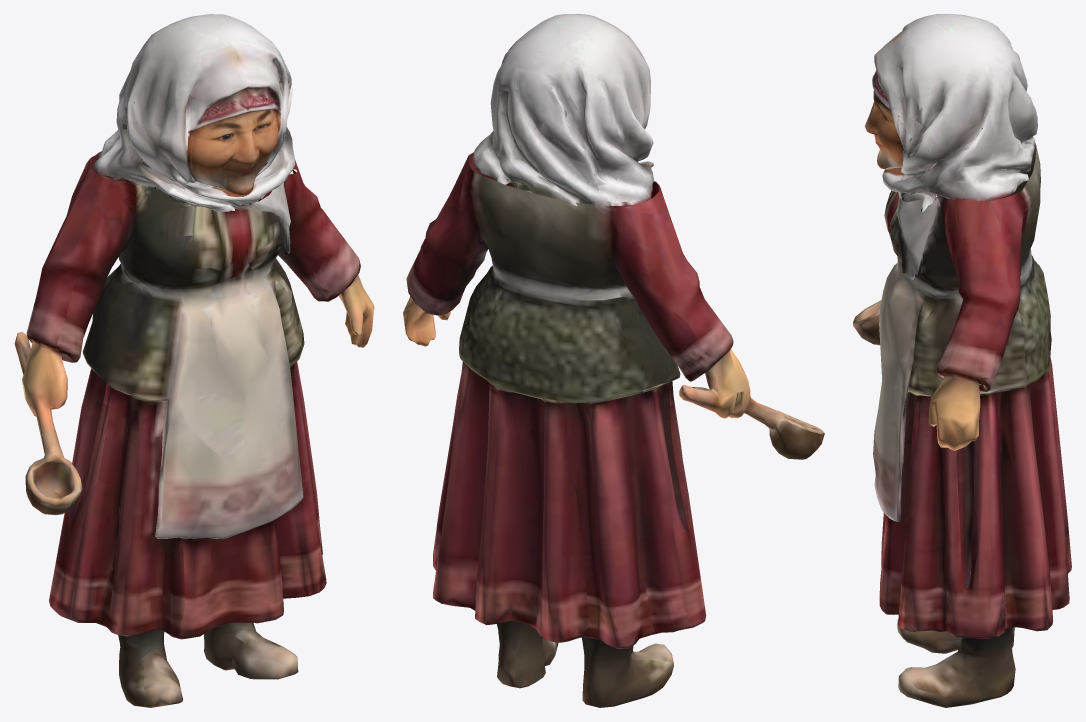
The model's file is cook.gen.phone.glb.
The picture shows the model from 3 angles, left to right: view 1: azimuth 30°, elevation 25°; view 2: azimuth 150°, elevation 25°; view 3: azimuth 270°, elevation 25°; orthographic projection.
Parts seen in each view (by area): view 1: cook.raw; view 2: cook.raw; view 3: cook.raw.
Part boxes in pixels (box(x1,y1,x2,y2)): cook.raw: box(14, 14, 374, 707); cook.raw: box(403, 14, 824, 707); cook.raw: box(853, 14, 1071, 707).
Size of the model in its own units: 1.06 by 1.75 by 0.5323.
Materials: 1 (1 with a texture image).
